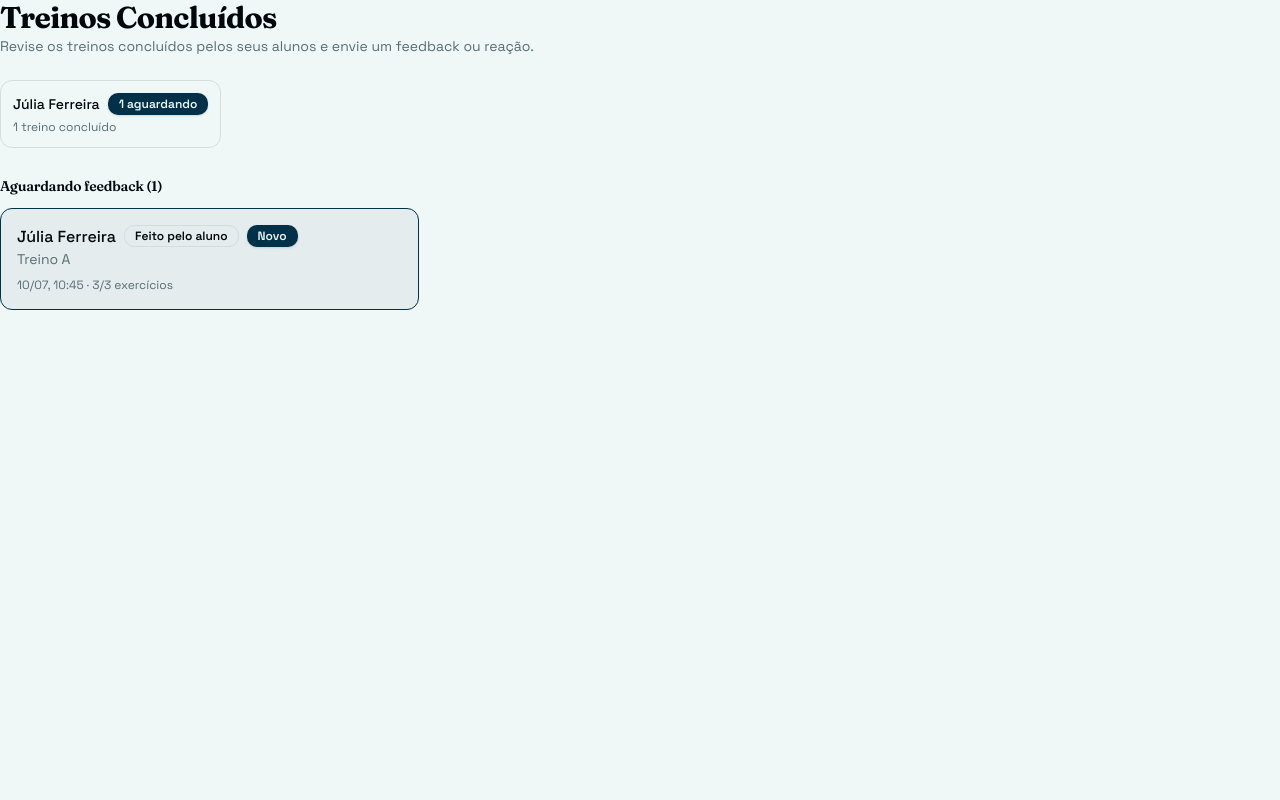
Test: TreinosConcluidosPage › shows the PSE badge in the review dialog when recorded
Click the button with aria-label "Júlia Ferreira — Treino A" at (67, 236), box [0,208,419,310]
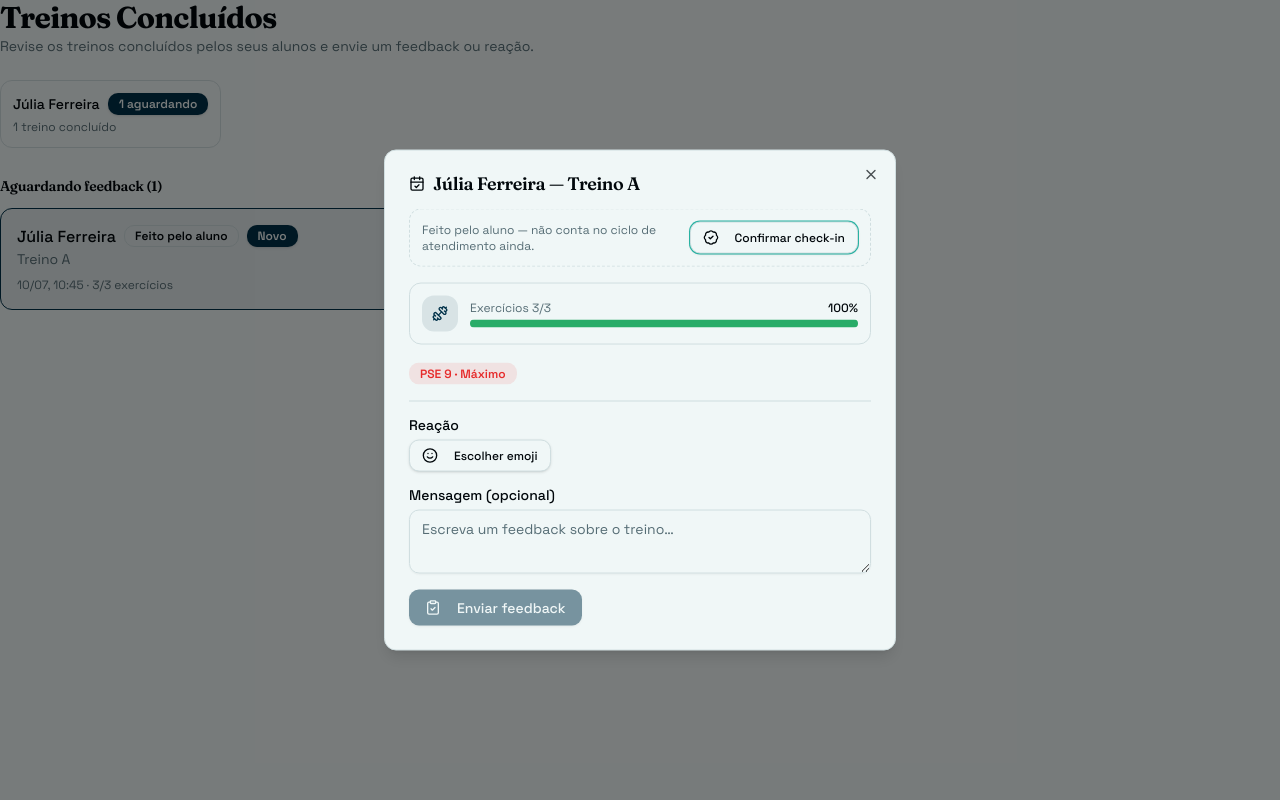
Result: the text "PSE 9 · Máximo" is shown at [409,362,517,384]
